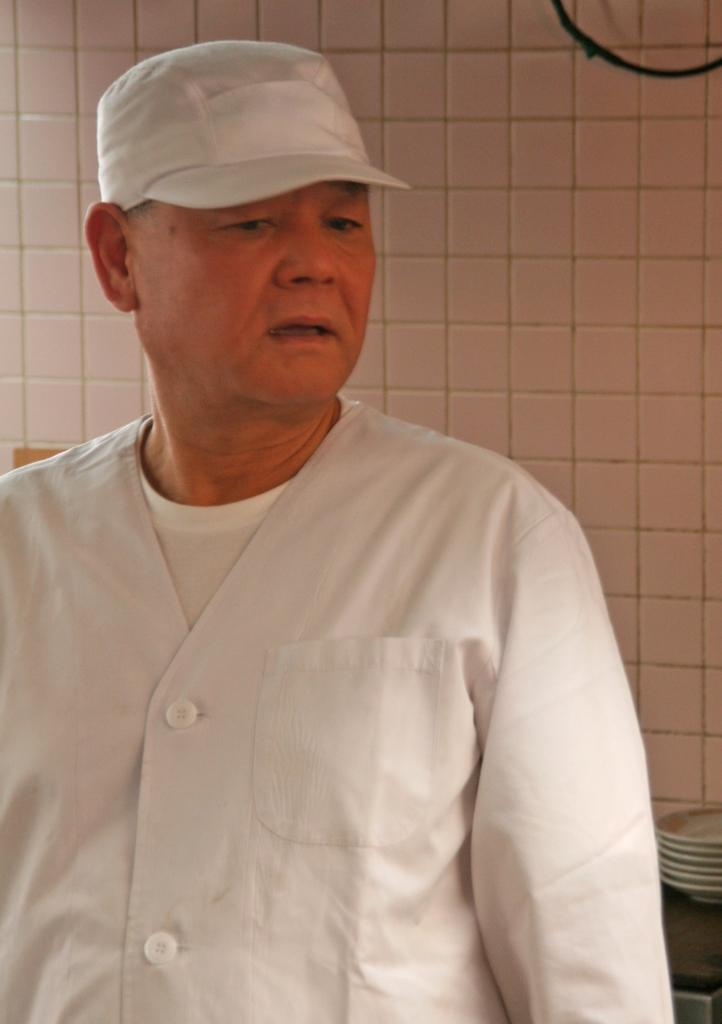Hat: (97, 41, 405, 218)
